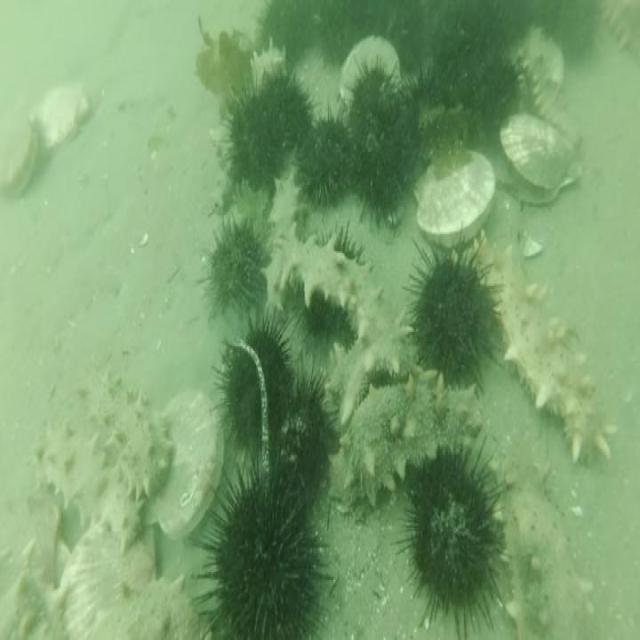echinus: (188, 460, 334, 640), (394, 442, 509, 640), (401, 228, 507, 400), (211, 310, 297, 461), (256, 352, 342, 501), (293, 218, 367, 354), (352, 98, 420, 235), (197, 214, 271, 330), (294, 109, 358, 213), (398, 63, 460, 168), (250, 70, 316, 158), (225, 85, 279, 190), (346, 52, 400, 134), (252, 0, 314, 68), (315, 0, 369, 71), (541, 0, 602, 60), (474, 52, 524, 125)
holothurian: (470, 231, 618, 474), (324, 367, 488, 526), (486, 442, 598, 640), (31, 414, 147, 555), (77, 357, 176, 507), (276, 223, 399, 327), (324, 298, 422, 426), (81, 567, 211, 640), (258, 164, 305, 326), (0, 535, 69, 640), (518, 46, 583, 148), (595, 0, 638, 71), (209, 114, 237, 215), (248, 35, 291, 93)
scallop: (139, 386, 225, 546), (60, 518, 158, 640), (410, 139, 498, 250), (498, 107, 586, 212), (337, 30, 402, 117), (33, 74, 93, 158), (0, 101, 41, 206)
